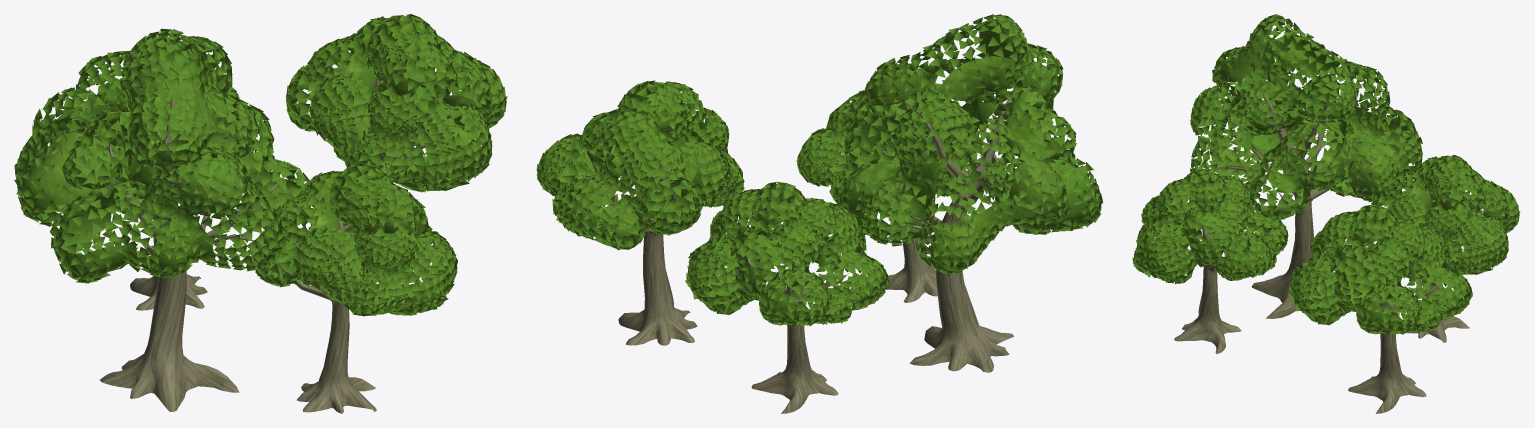
Rendered from SM_ENV_LKNVLD_TreeSet_B.FBX.
3 renders of one model, left to right at view 1: azimuth 30°, elevation 25°; view 2: azimuth 150°, elevation 25°; view 3: azimuth 270°, elevation 25°, orthographic. The views are drawn at different scales.
Visible parts, largest first — view 1: SM_ENV_LKNVLD_TreeSet_B; view 2: SM_ENV_LKNVLD_TreeSet_B; view 3: SM_ENV_LKNVLD_TreeSet_B.
Boxes of the visible parts, left/top/right/bottom form: SM_ENV_LKNVLD_TreeSet_B: left=14, top=14, right=507, bottom=413; SM_ENV_LKNVLD_TreeSet_B: left=536, top=14, right=1103, bottom=413; SM_ENV_LKNVLD_TreeSet_B: left=1132, top=14, right=1520, bottom=413.
Size of the model in its own units: 2111 by 1402 by 1799.
